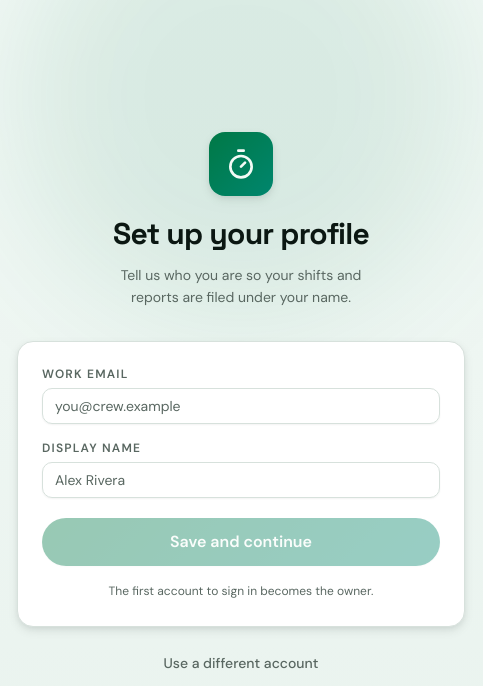
it: ProfileSetup › disables submit until a valid email is entered
expect the button with test id "profile_setup.submit_button" is disabled: met, box [42, 518, 440, 566]
Type "not-an-email" into the field with test id "profile_setup.email_input". click: (241, 406)
box: [42, 388, 440, 424]
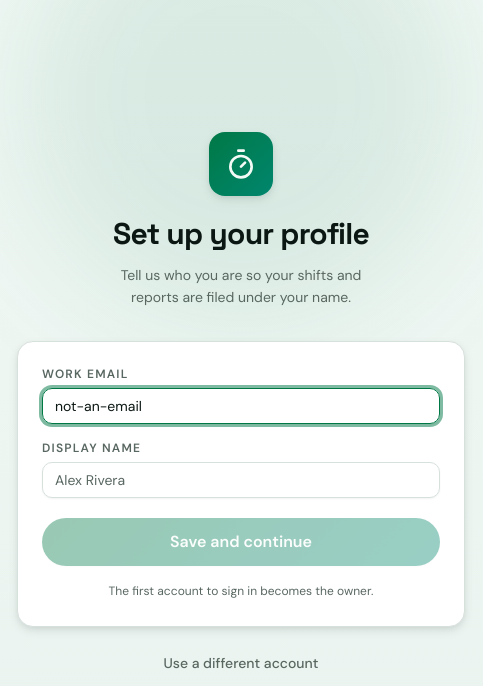
expect the button with test id "profile_setup.submit_button" is disabled: met, box [42, 518, 440, 566]
Type "@crew.example" into the field with test id "profile_setup.email_input". click: (241, 406)
box: [42, 388, 440, 424]
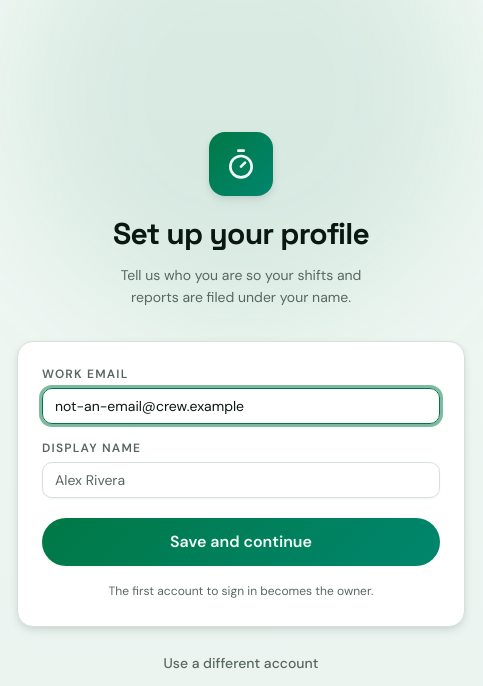
expect the button with test id "profile_setup.submit_button" is enabled: met, box [42, 518, 440, 566]
